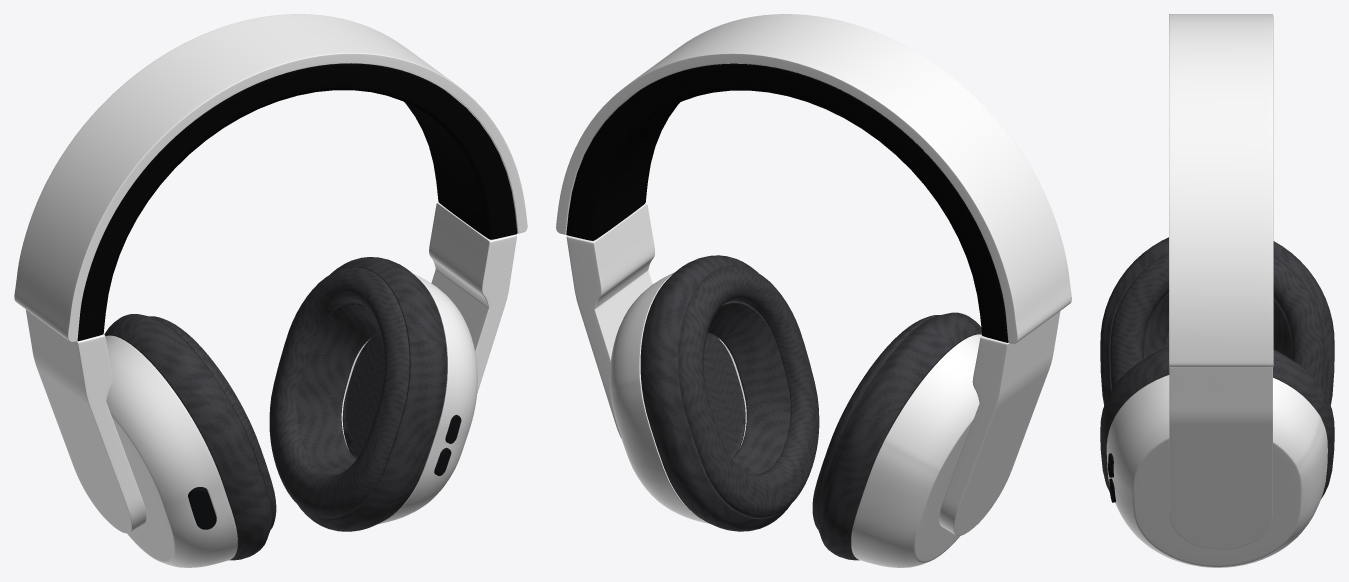
The model's file is headphones.glb.
3 renders of one model, left to right at view 1: azimuth 30°, elevation 25°; view 2: azimuth 150°, elevation 25°; view 3: azimuth 270°, elevation 25°, orthographic. The views are drawn at different scales.
Visible parts, largest first — view 1: head top band, head band, fabric ear cover RT.001, plustic air cover lft, fabric ear TOP cover RT, ear stand LFT, fabric ear cover left, ear stand RT, plustic air coverr8, fabric ear U cover RT, fabric ear TOP cover LFT, Left button; view 2: head top band, head band, fabric ear cover RT.001, plustic air cover lft, fabric ear TOP cover RT, ear stand LFT, fabric ear cover left, ear stand RT, plustic air coverr8, fabric ear U cover RT, fabric ear TOP cover LFT; view 3: head top band, ear stand RT, plustic air coverr8, fabric ear TOP cover LFT, fabric ear cover left, fabric ear cover RT.001.
Boxes of the visible parts, bbox=[...] form: head top band: bbox=[14, 14, 527, 342]; head band: bbox=[77, 63, 517, 341]; fabric ear cover RT.001: bbox=[298, 257, 447, 531]; plustic air cover lft: bbox=[105, 335, 237, 567]; fabric ear TOP cover RT: bbox=[269, 267, 409, 518]; ear stand LFT: bbox=[25, 309, 146, 533]; fabric ear cover left: bbox=[104, 314, 271, 560]; ear stand RT: bbox=[429, 202, 516, 393]; plustic air coverr8: bbox=[341, 273, 477, 524]; fabric ear U cover RT: bbox=[342, 334, 384, 458]; fabric ear TOP cover LFT: bbox=[149, 316, 276, 529]; Left button: bbox=[188, 487, 216, 529]; head top band: bbox=[556, 14, 1071, 343]; head band: bbox=[566, 63, 1008, 342]; fabric ear cover RT.001: bbox=[640, 255, 790, 531]; plustic air cover lft: bbox=[851, 334, 981, 567]; fabric ear TOP cover RT: bbox=[678, 265, 819, 518]; ear stand LFT: bbox=[939, 311, 1060, 535]; fabric ear cover left: bbox=[816, 312, 981, 560]; ear stand RT: bbox=[566, 203, 654, 438]; plustic air coverr8: bbox=[609, 272, 746, 523]; fabric ear U cover RT: bbox=[703, 333, 745, 458]; fabric ear TOP cover LFT: bbox=[812, 315, 940, 529]; head top band: bbox=[1169, 14, 1273, 367]; ear stand RT: bbox=[1169, 367, 1272, 549]; plustic air coverr8: bbox=[1106, 375, 1327, 567]; fabric ear TOP cover LFT: bbox=[1110, 252, 1324, 388]; fabric ear cover left: bbox=[1100, 237, 1334, 405]; fabric ear cover RT.001: bbox=[1100, 347, 1334, 498].
Size of the model in its own units: 3.49 by 3.59 by 1.59.
Materials: 9 (4 with a texture image).
